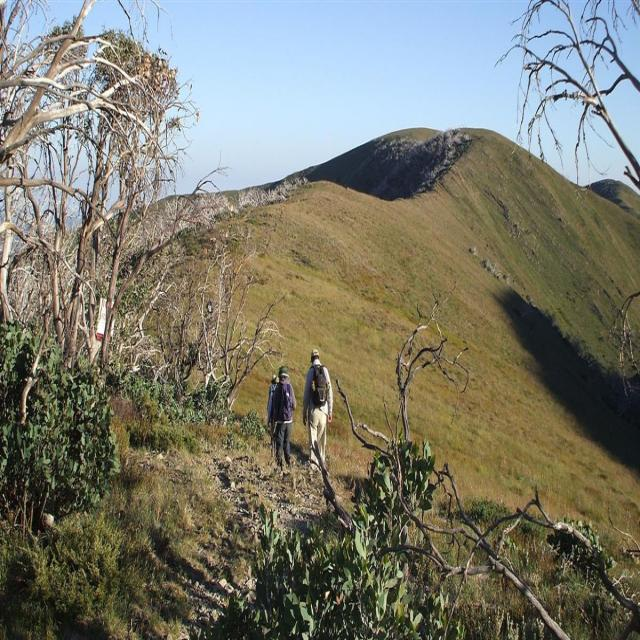body: (302, 346, 334, 475), (273, 365, 297, 472), (266, 372, 280, 428), (267, 372, 276, 411), (206, 297, 214, 315)
